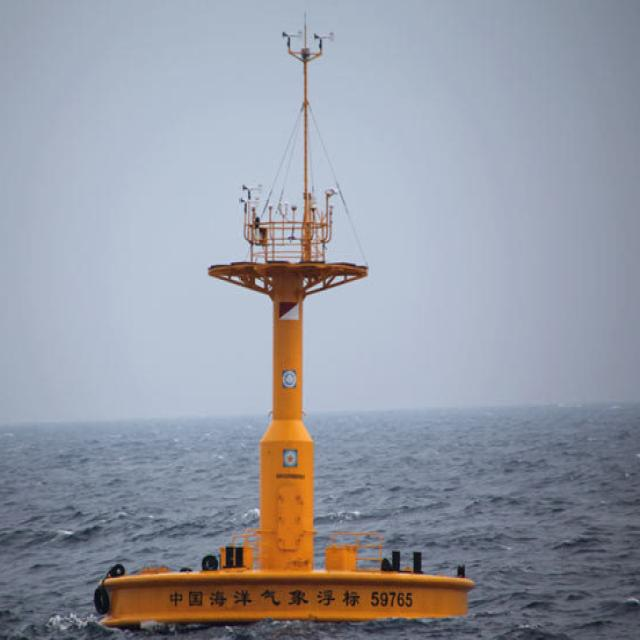buoy: (82, 20, 476, 627)
